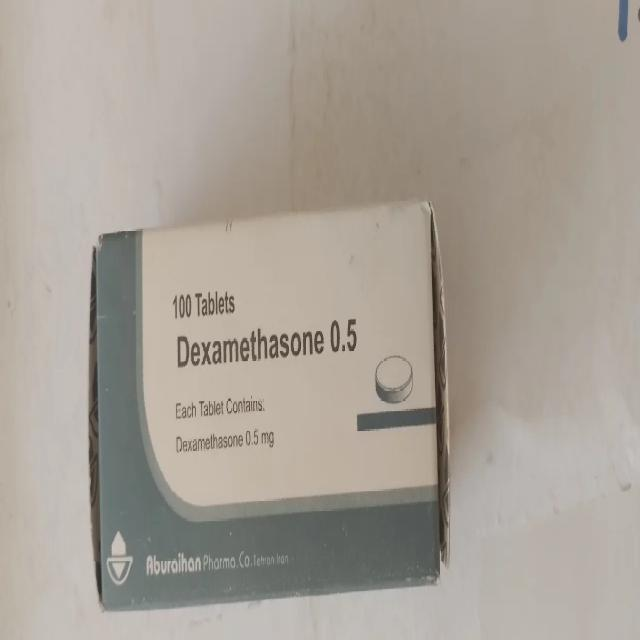drug-name: (172, 318, 362, 368)
